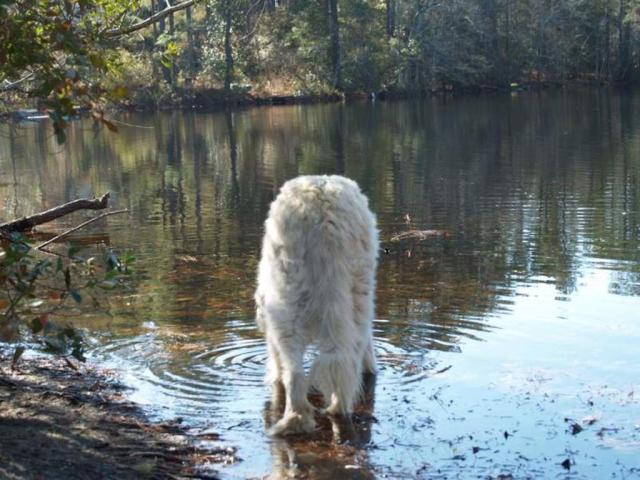Dog: (255, 173, 380, 435)
